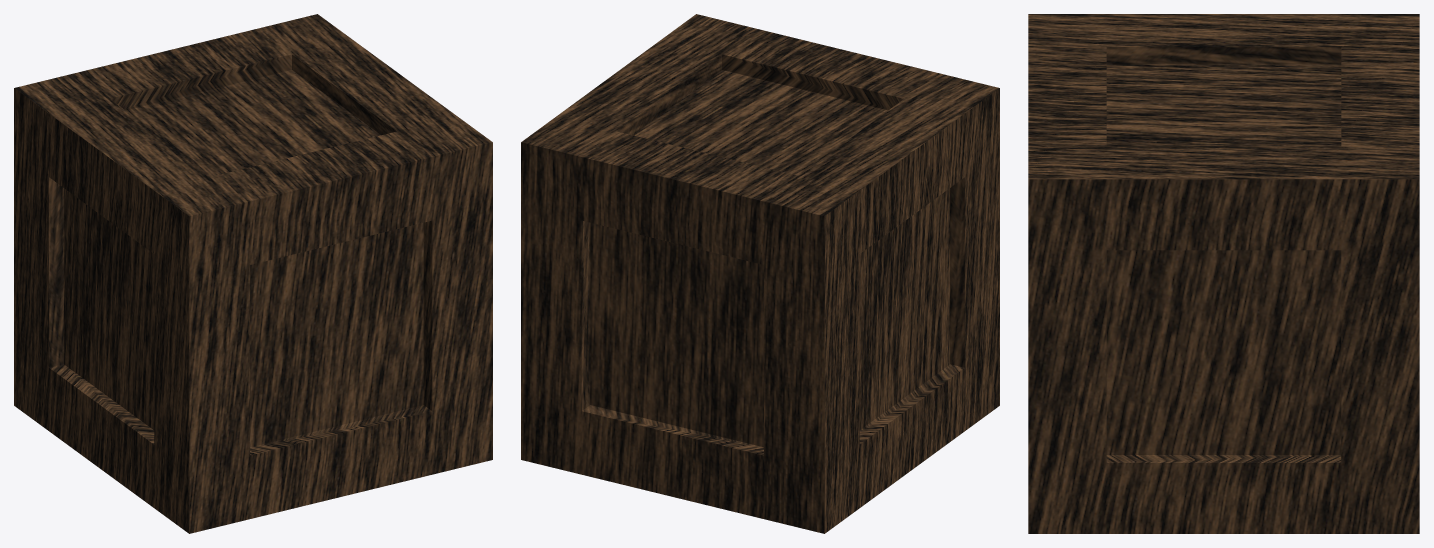
The model's file is Crate.fbx.
3 renders of one model, left to right at view 1: azimuth 30°, elevation 25°; view 2: azimuth 150°, elevation 25°; view 3: azimuth 270°, elevation 25°, orthographic. The views are drawn at different scales.
Parts seen in each view (by area): view 1: pCube1; view 2: pCube1; view 3: pCube1.
Boxes of the visible parts, x1=… form: pCube1: x1=14, y1=14, x2=492, y2=533; pCube1: x1=521, y1=14, x2=999, y2=533; pCube1: x1=1028, y1=14, x2=1419, y2=533.
Bounding box in the file's own units: 1 × 1 × 1.
